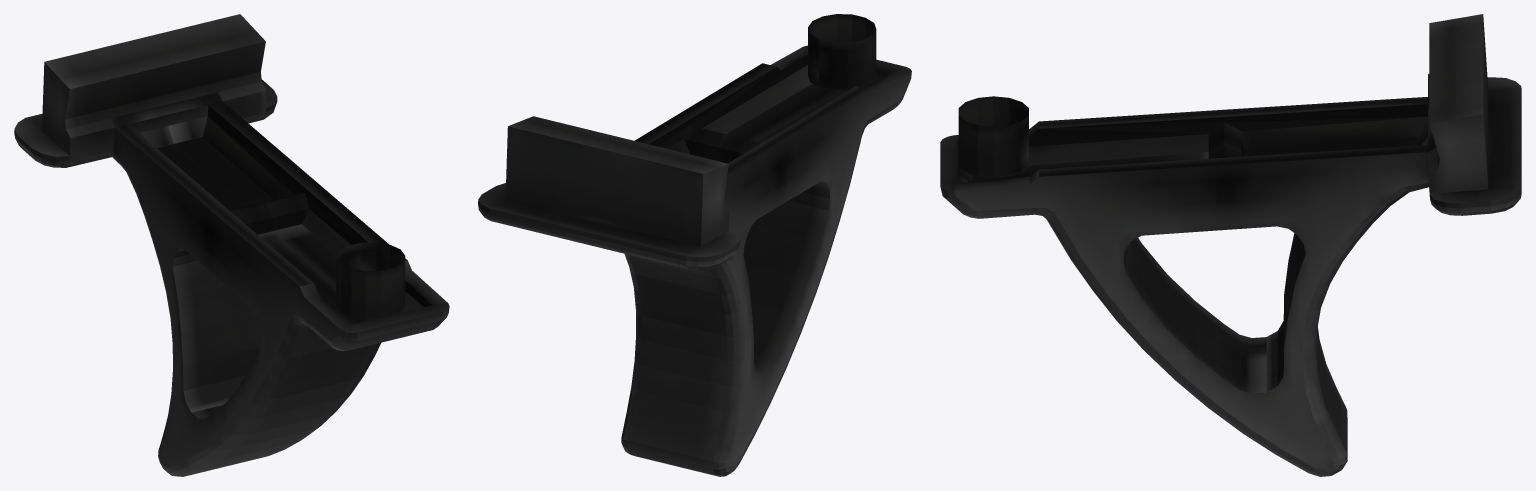
3 views of the same model, side by side, from view 1: azimuth 30°, elevation 25°; view 2: azimuth 150°, elevation 25°; view 3: azimuth 270°, elevation 25° (orthographic). The views are drawn at different scales.
Visible parts, largest first — view 1: TW_66ffa9b66e19cc902401c5e8_PZ_Import; view 2: TW_66ffa9b66e19cc902401c5e8_PZ_Import; view 3: TW_66ffa9b66e19cc902401c5e8_PZ_Import.
Part boxes in pixels (x1=…): TW_66ffa9b66e19cc902401c5e8_PZ_Import: x1=14, y1=14, x2=449, y2=476; TW_66ffa9b66e19cc902401c5e8_PZ_Import: x1=478, y1=14, x2=911, y2=476; TW_66ffa9b66e19cc902401c5e8_PZ_Import: x1=940, y1=14, x2=1521, y2=476.
Bounding box in the file's own units: 0.0125 × 0.0249 × 0.0184.
1 material, 1 textured.
